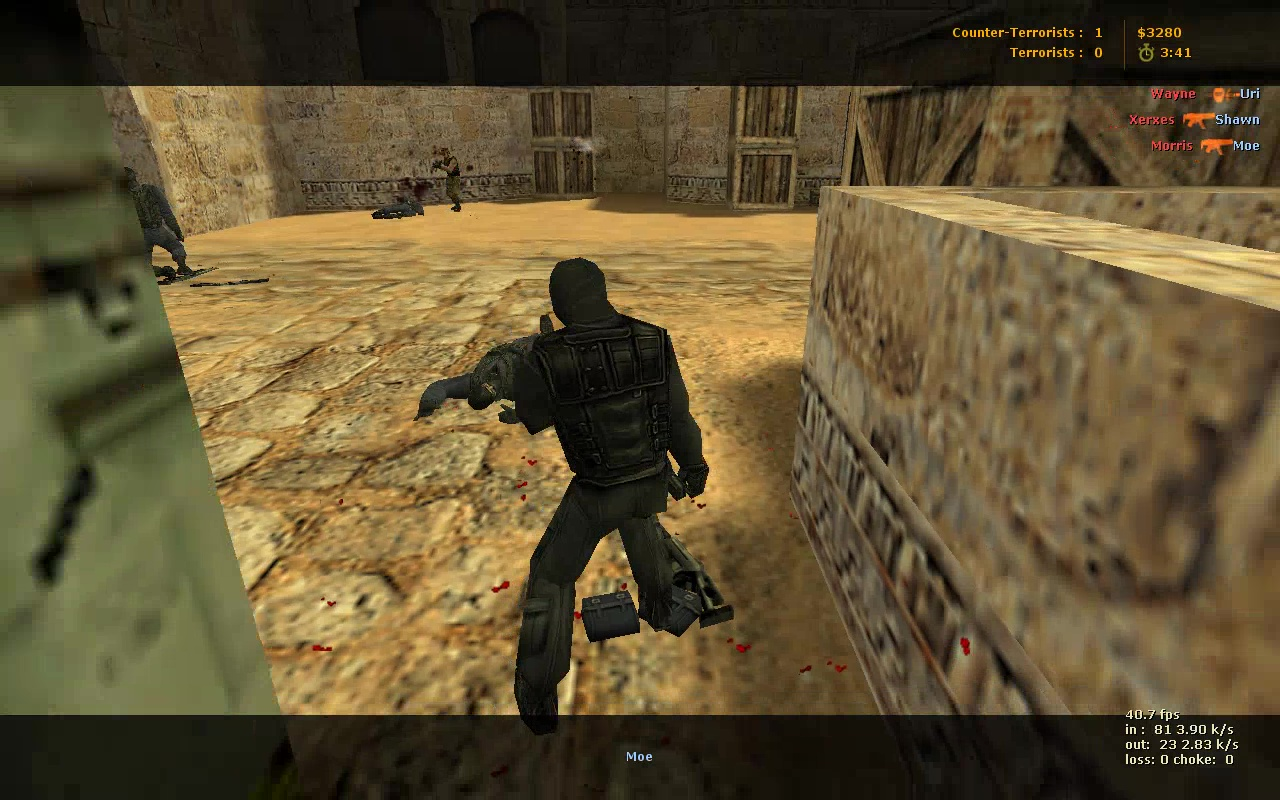ct: (509, 255, 712, 735), (116, 165, 193, 276)
dead: (368, 204, 426, 224)
terr1: (427, 145, 469, 213)
